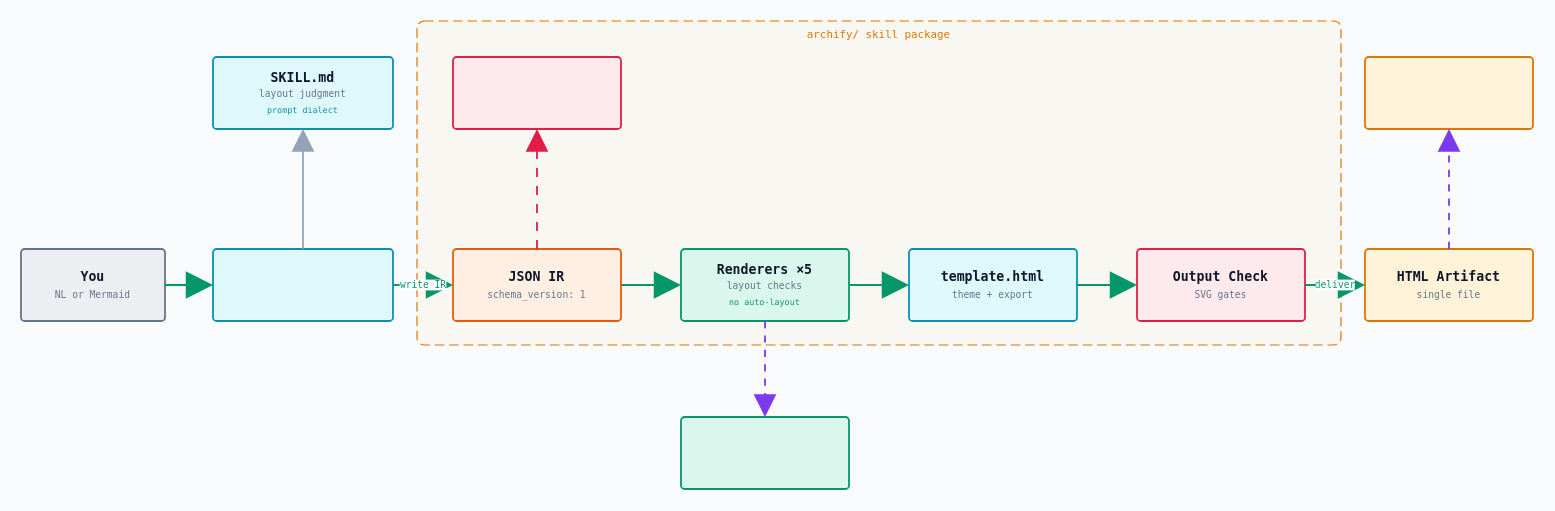
Some shapes in this 1555 by 511 pixel diagram are drawn without their labels. The centre of each missing label's shape, as x and y in pixels:
"Agent Hosts Claude · Codex · opencode" belongs at pixel 302 284.
"archify.zip skill package" belongs at pixel 1448 92.
"CI Gates golden + zip" belongs at pixel 764 452.
"JSON Schema ajv strict fail-closed" belongs at pixel 536 92.
